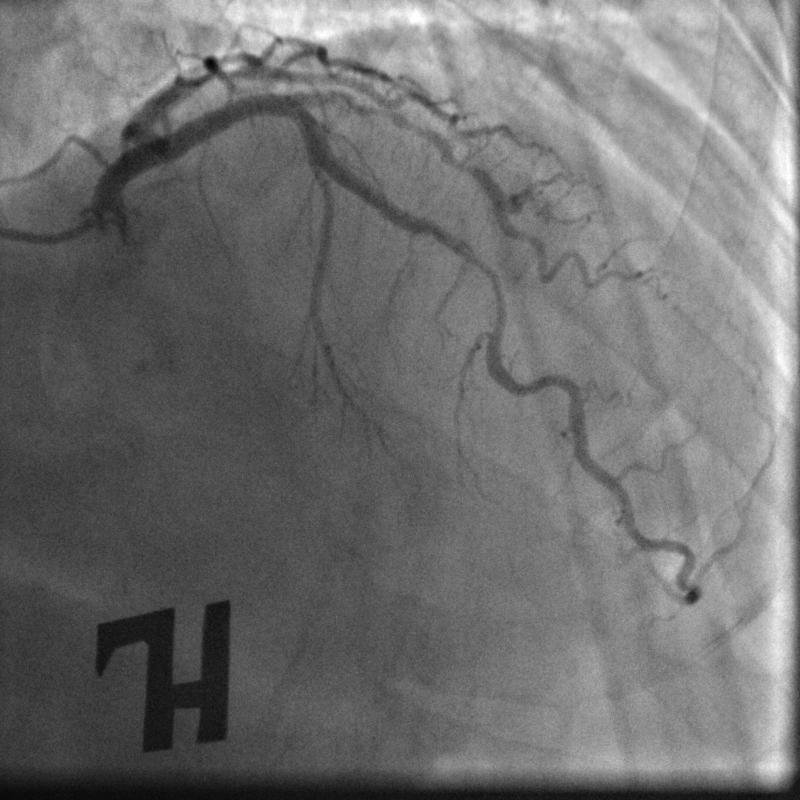Stenosis: (468, 250, 511, 333)
